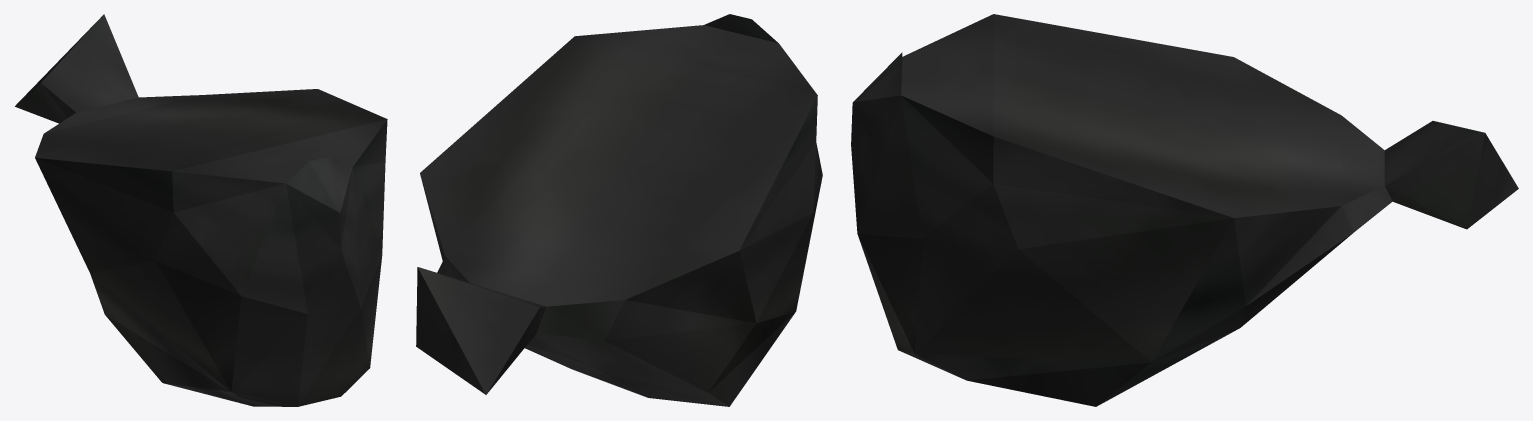
File: CHUSTA_SZ.glb
The picture shows the model from 3 angles, left to right: view 1: azimuth 30°, elevation 25°; view 2: azimuth 150°, elevation 25°; view 3: azimuth 270°, elevation 25°; orthographic projection. The views are drawn at different scales.
Parts seen in each view (by area): view 1: CHUSTA_SZ; view 2: CHUSTA_SZ; view 3: CHUSTA_SZ.
Part boxes in pixels (<box>): CHUSTA_SZ: <box>15,14,387,406</box>; CHUSTA_SZ: <box>416,14,822,406</box>; CHUSTA_SZ: <box>851,14,1518,406</box>.
Bounding box in the file's own units: 0.1928 × 0.18 × 0.3386.
Materials: 1 (1 with a texture image).
